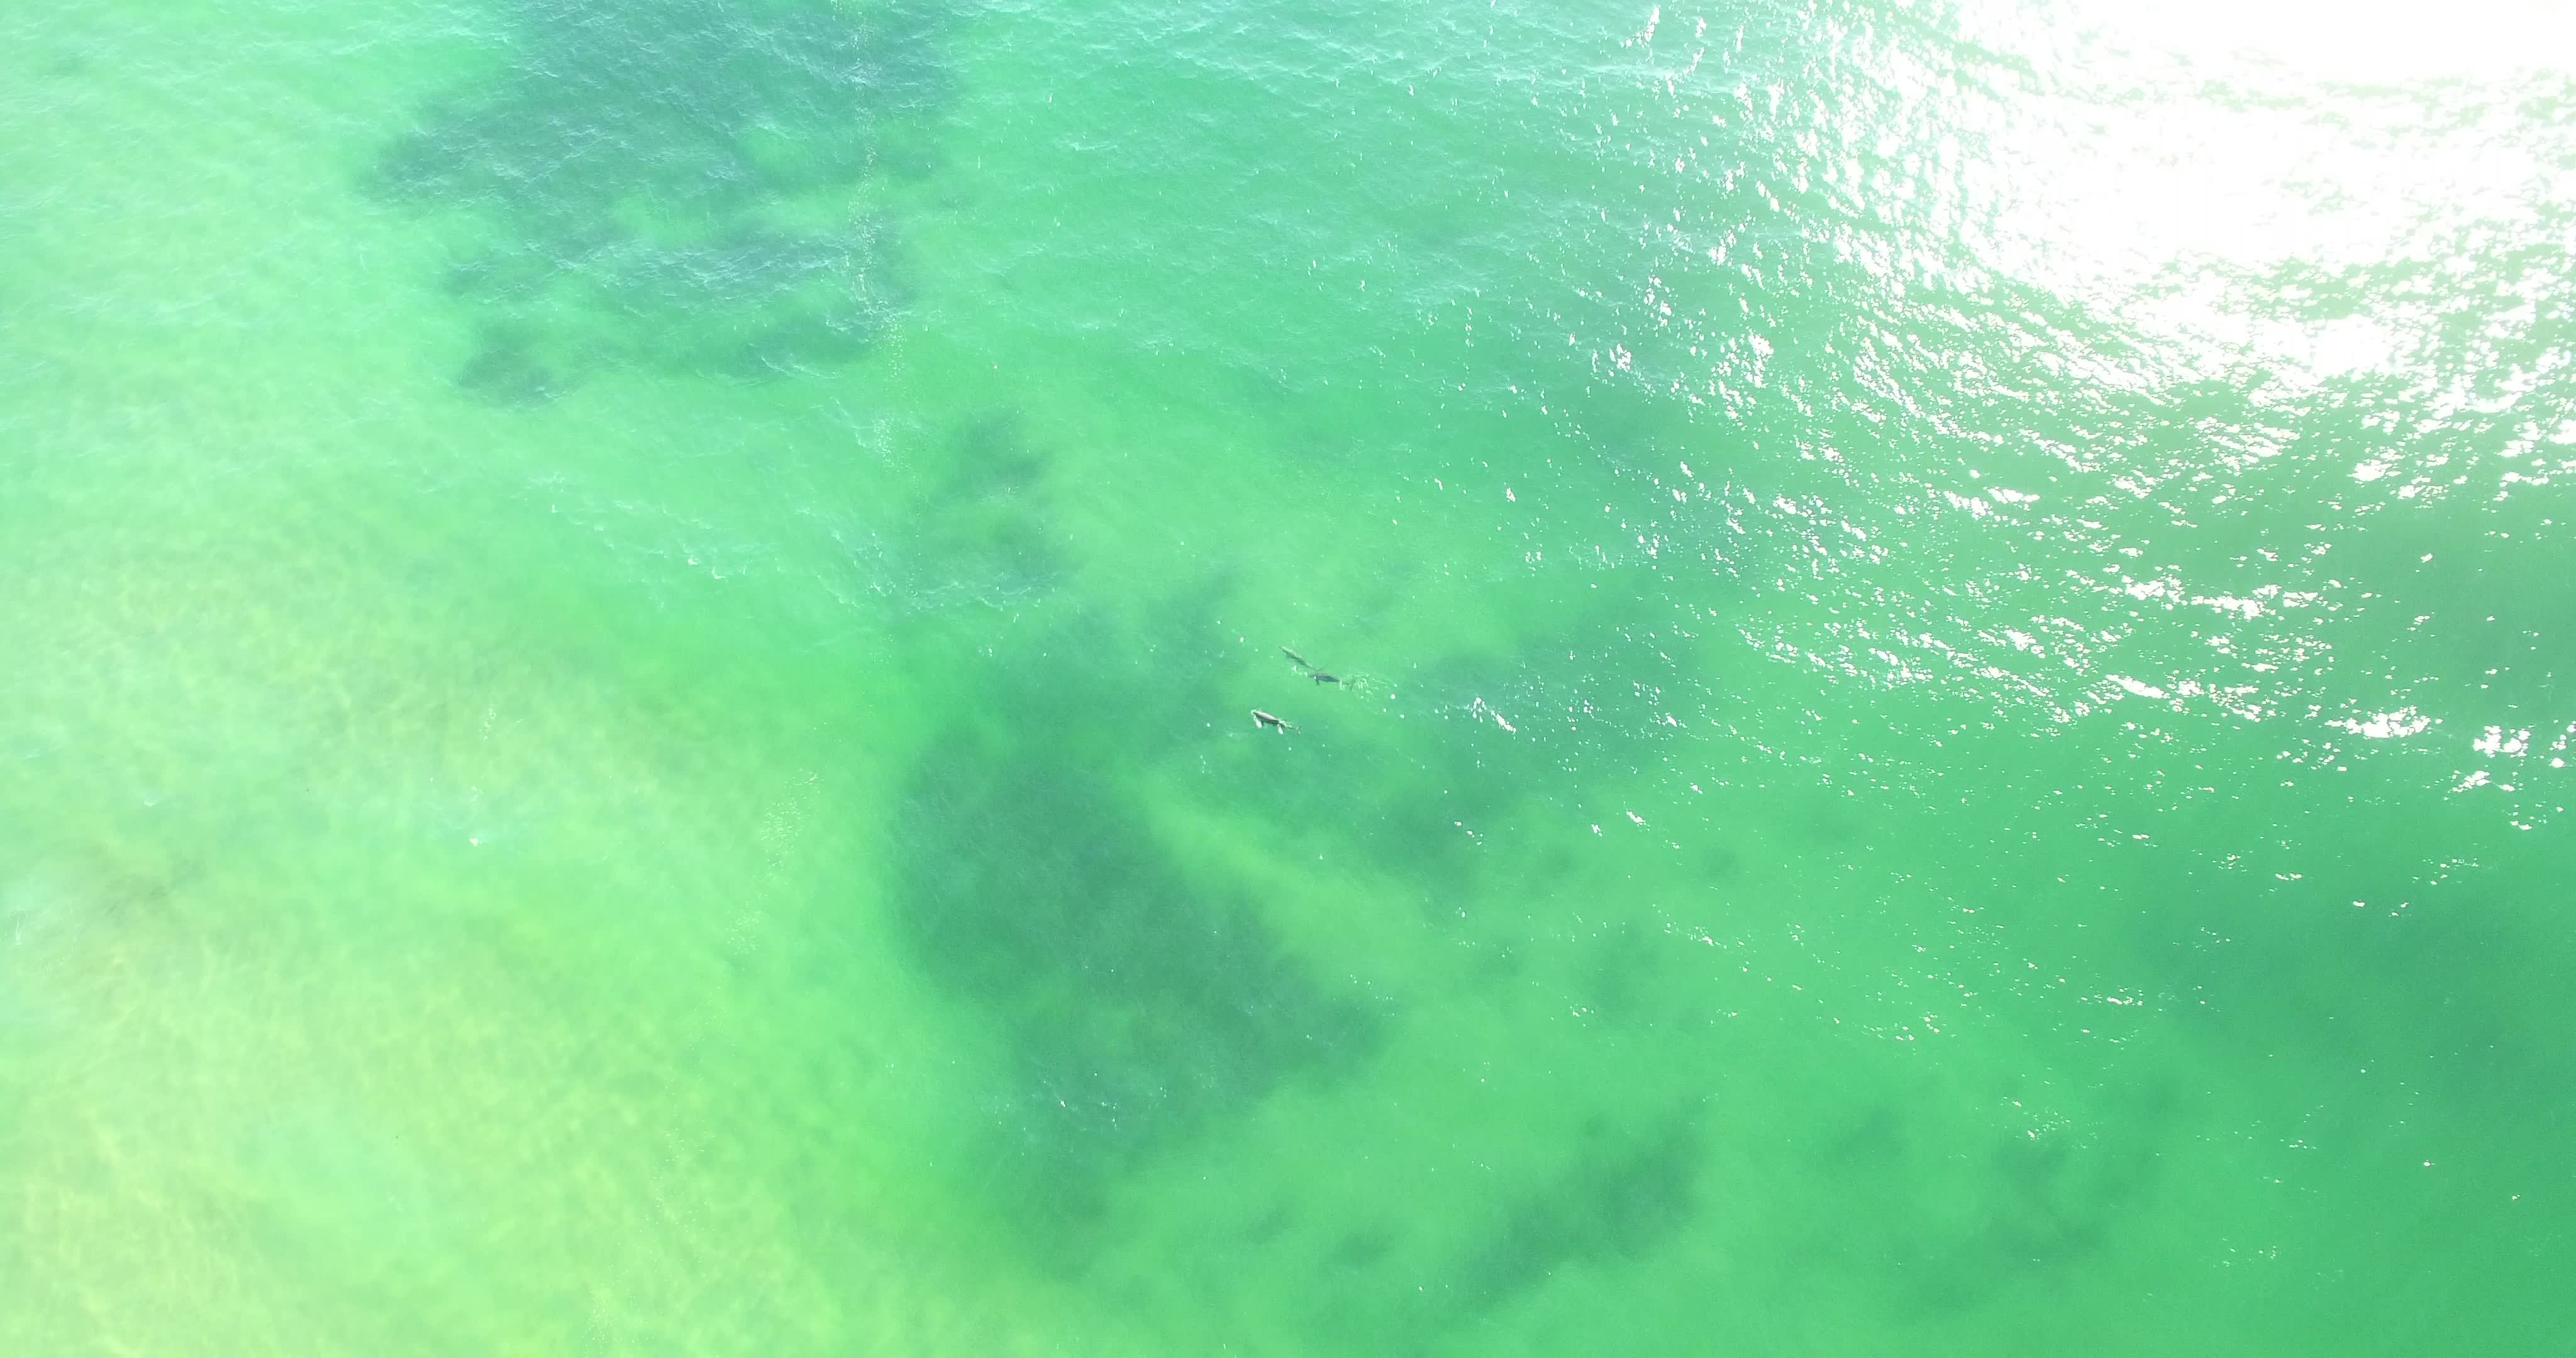dolphin: (1233, 693, 1305, 745), (1293, 654, 1363, 695), (1259, 637, 1315, 671)
